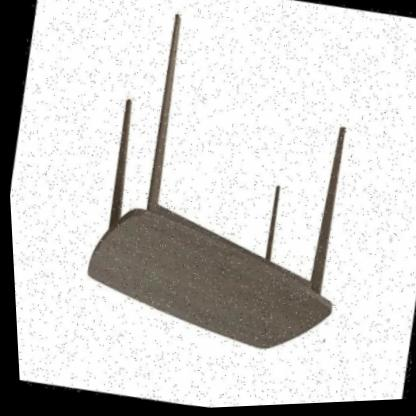Table: (49, 0, 404, 405)
